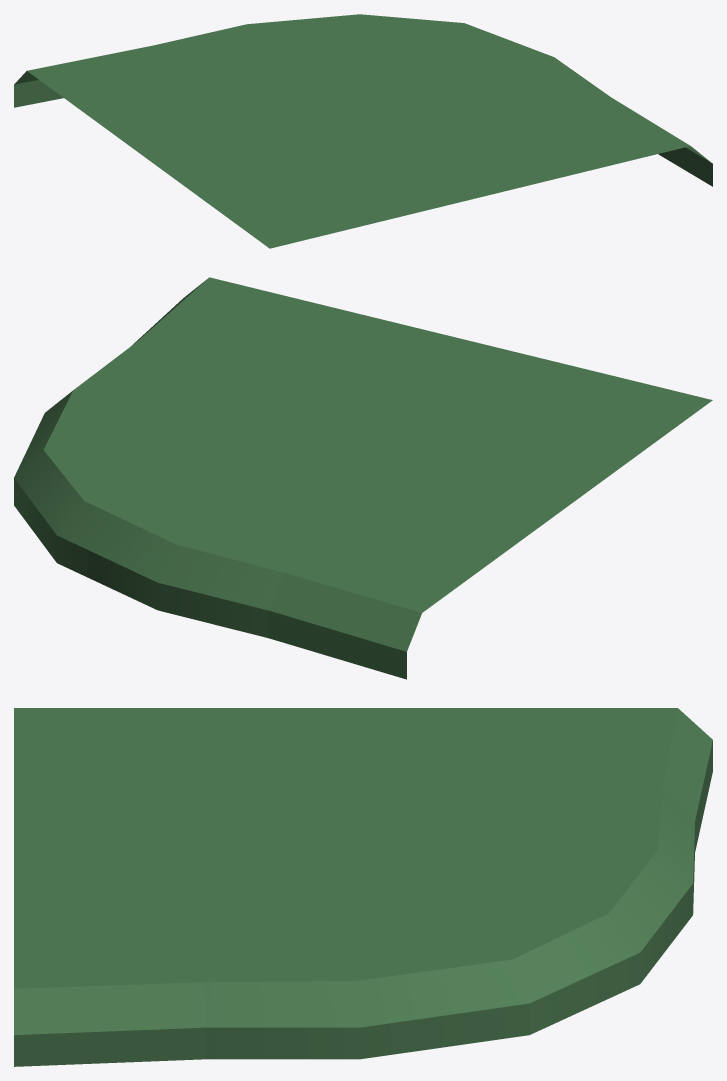
Rendered from Grass_Corner.fbx.
3 renders of one model, top to bottom at view 1: azimuth 30°, elevation 25°; view 2: azimuth 150°, elevation 25°; view 3: azimuth 270°, elevation 25°, orthographic. The views are drawn at different scales.
Parts seen in each view (by area): view 1: Grass_Corner; view 2: Grass_Corner; view 3: Grass_Corner.
Part boxes in pixels (x1,y1,x2,y2): Grass_Corner: (14, 14, 712, 248); Grass_Corner: (14, 277, 712, 679); Grass_Corner: (14, 708, 712, 1066).
Size of the model in its own units: 1 by 0.1 by 1.
